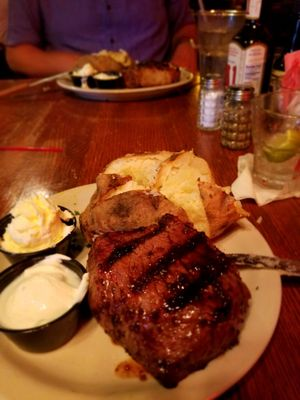pizza: (251, 89, 300, 192)
